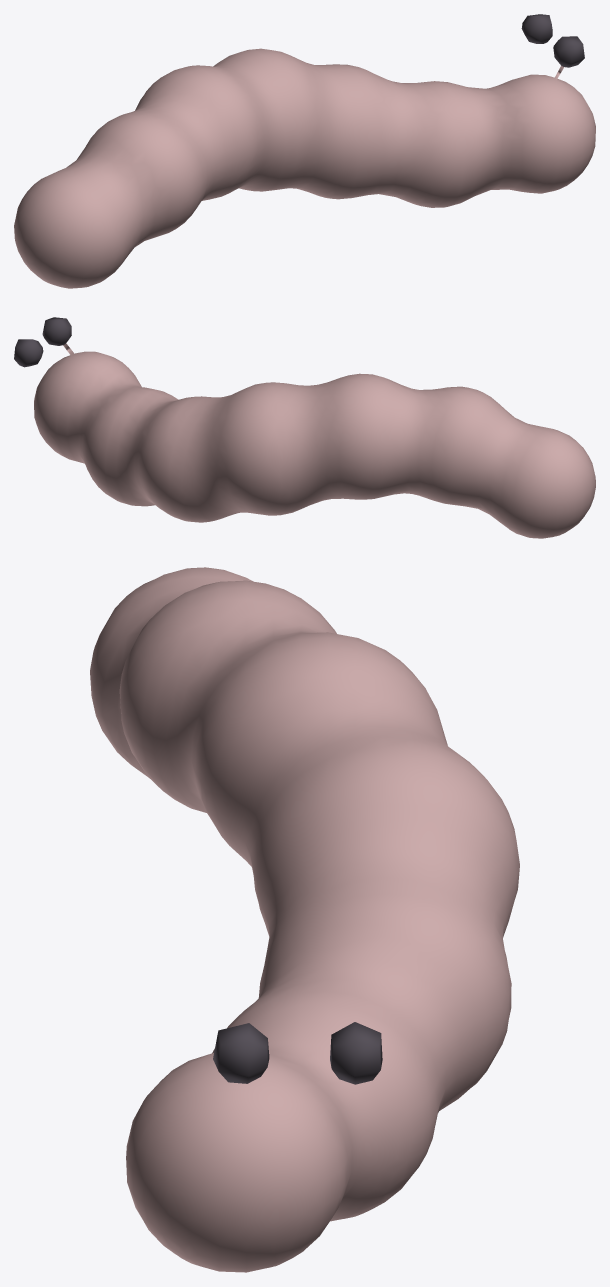
Rendered from worm.glb.
3 views of the same model, one above another, from view 1: azimuth 30°, elevation 25°; view 2: azimuth 150°, elevation 25°; view 3: azimuth 270°, elevation 25° (orthographic). The views are drawn at different scales.
Parts seen in each view (by area): view 1: worm; view 2: worm; view 3: worm.
Boxes of the visible parts, x1,y1,x2,y2 form: worm: [14, 14, 595, 288]; worm: [14, 317, 595, 538]; worm: [90, 567, 519, 1272].
Bounding box in the file's own units: 51.14 × 15.89 × 17.7.
